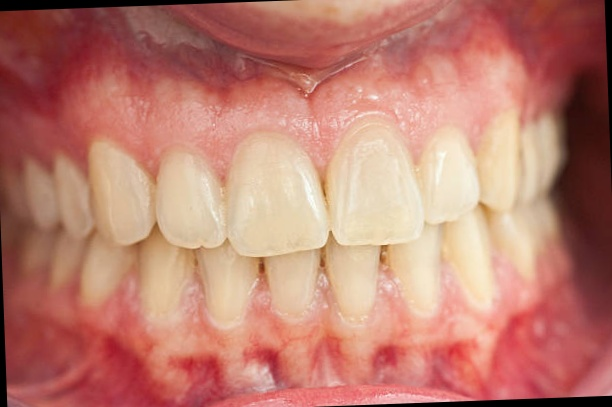Gingivitis: (86, 47, 262, 107), (163, 348, 224, 407), (357, 334, 416, 387), (239, 340, 293, 392)
